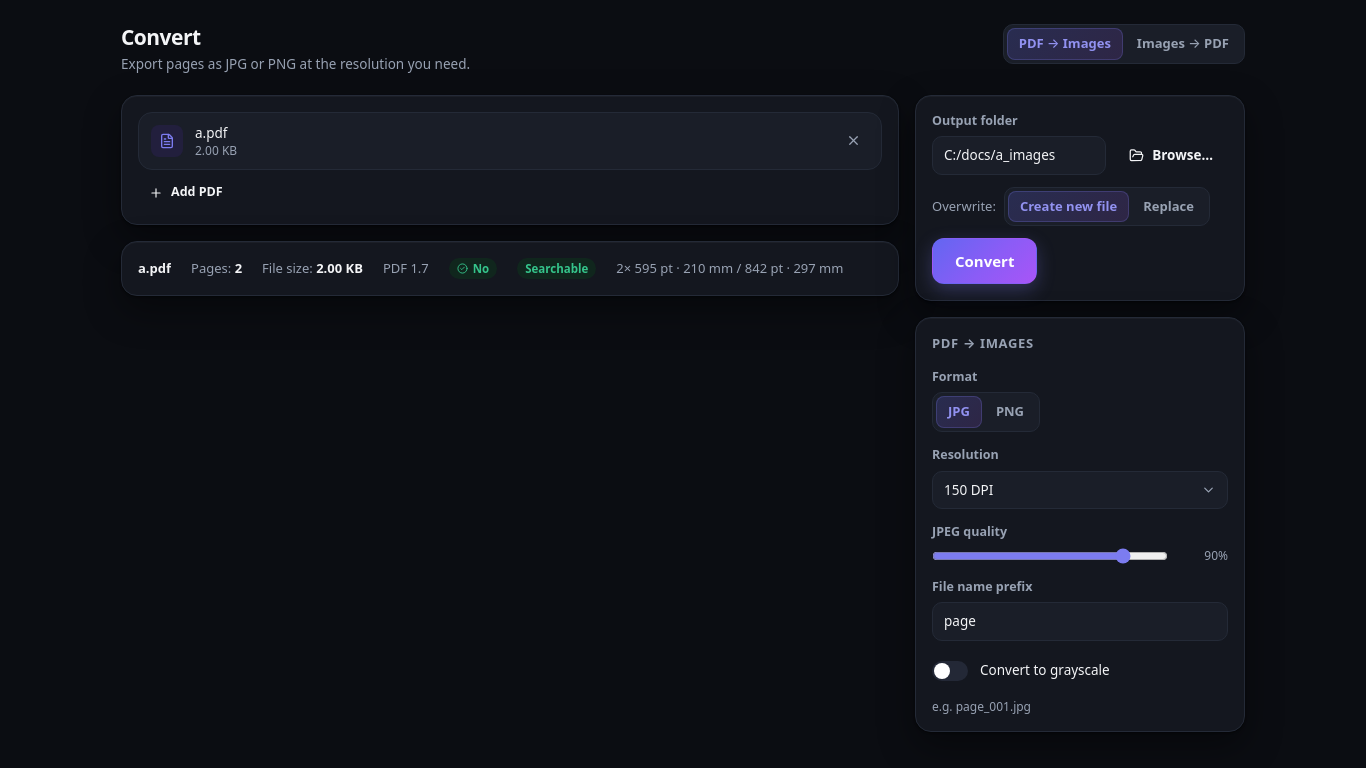
Test: converter-style tool screens › exports pages to images with the settings defaults
The width and height of the screenshot is (1366, 768).
Click the button "Convert" at {"x": 985, "y": 261}, box 932,238 -> 1037,284
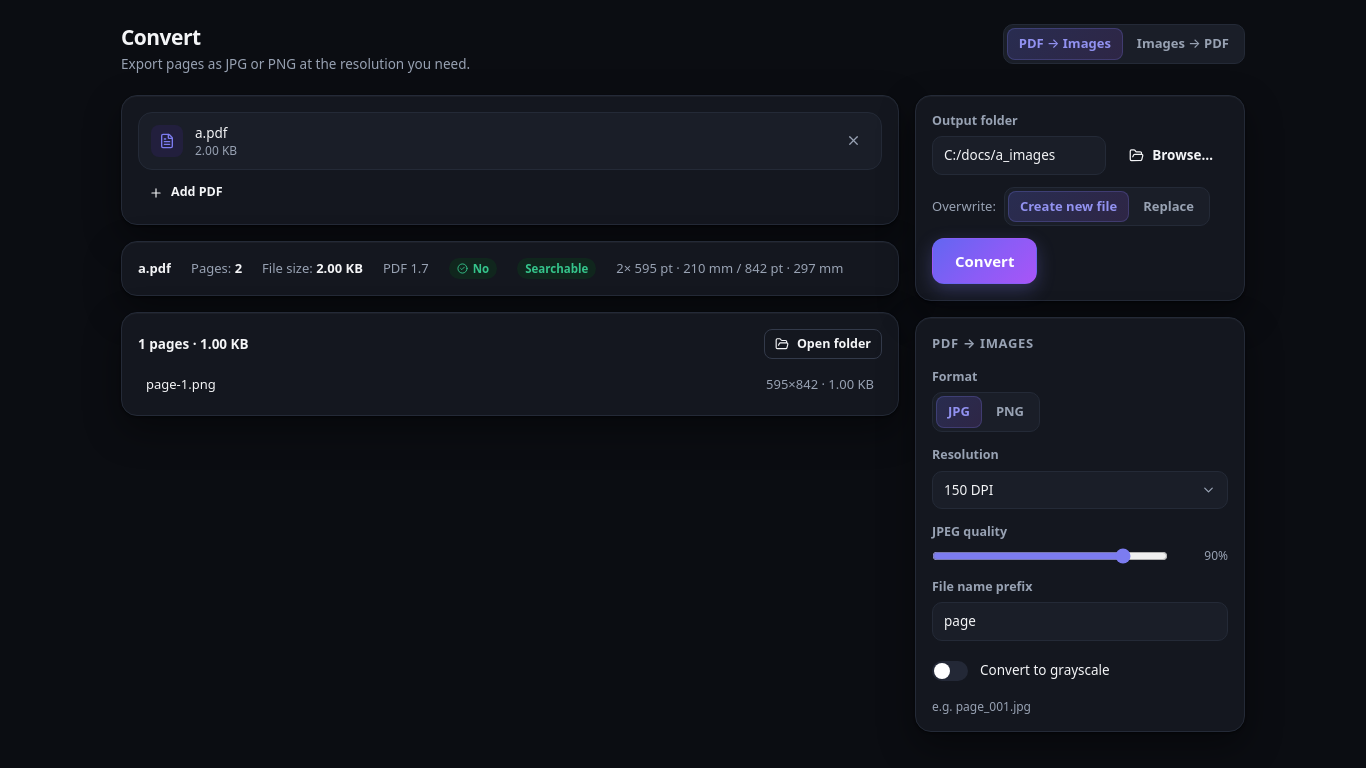
Expected: the text "page-1.png" is shown, 146,375 -> 216,394
